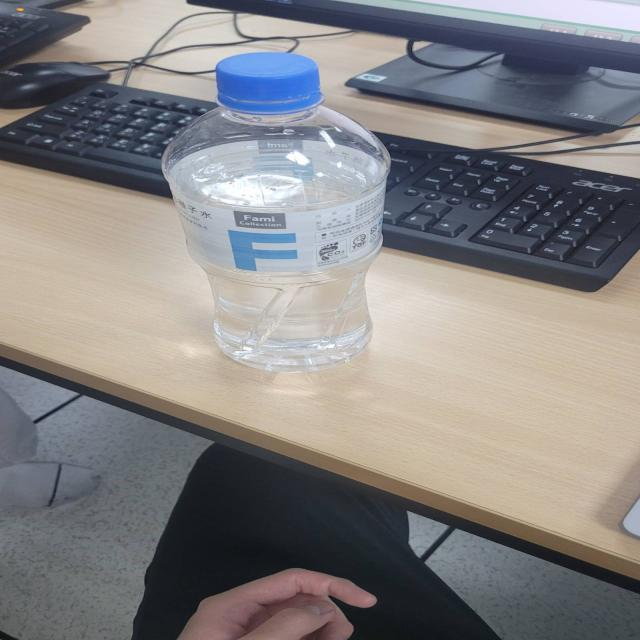PET bottle: (152, 49, 398, 378)
